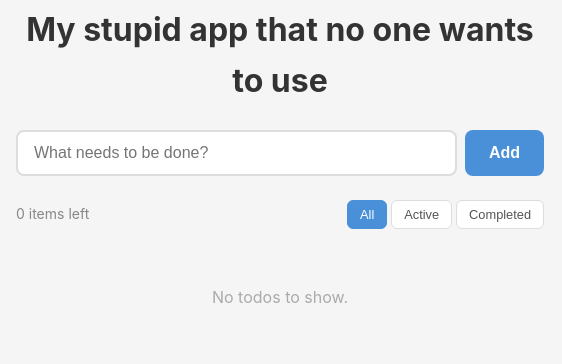
Test: Todo App › displays the correct active count
The image size is (562, 364).
Check: the text "0 items left" is shown, box [16,203,89,226]
Type "A" into the field with placeholder "What needs to be done?" at x=236, y=153, box [16,130,457,176]
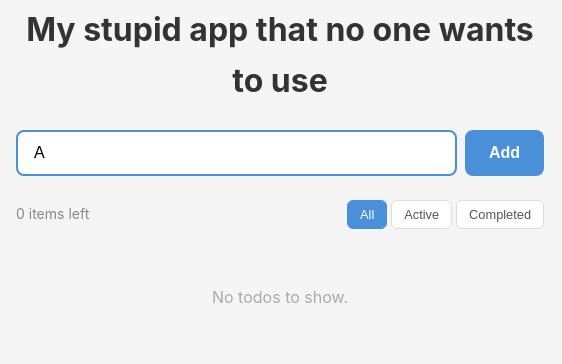
Click the button "Add" at x=504, y=153, box [465,130,544,176]
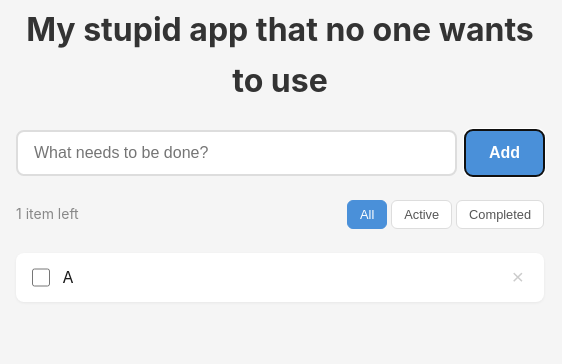
Check: the text "1 item left" is shown, box [16,203,79,226]
Type "B" into the field with placeholder "What needs to be done?" at x=236, y=153, box [16,130,457,176]
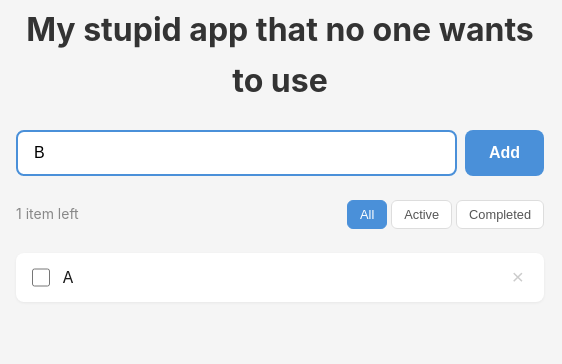
Click the button "Add" at x=504, y=153, box [465,130,544,176]
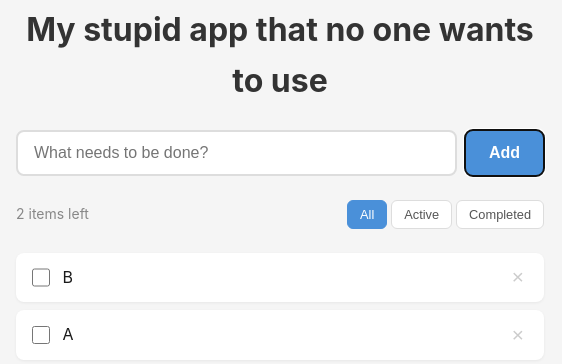
Check: the text "2 items left" is shown, box [16,203,89,226]
Click the checkbox named "Toggle \"A\"" at x=41, y=335, box [32,326,50,344]
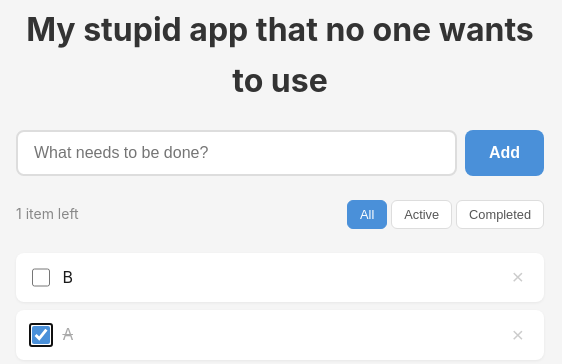
Check: the text "1 item left" is shown, box [16,203,79,226]
